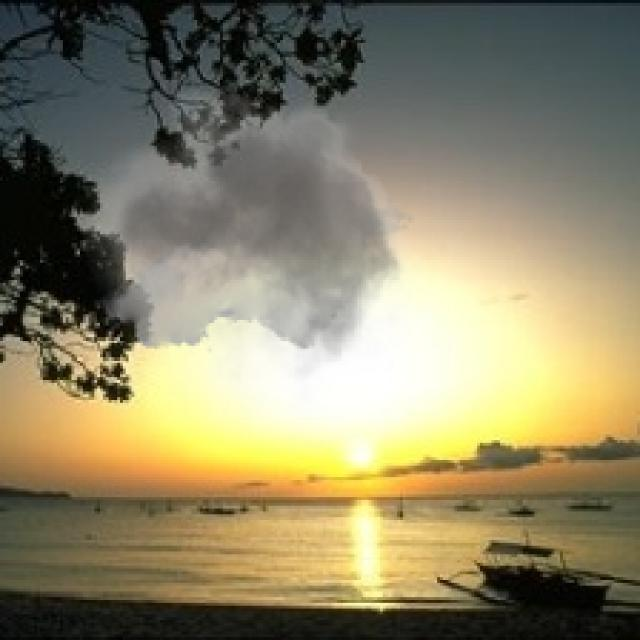Smoke: (83, 71, 426, 420)
